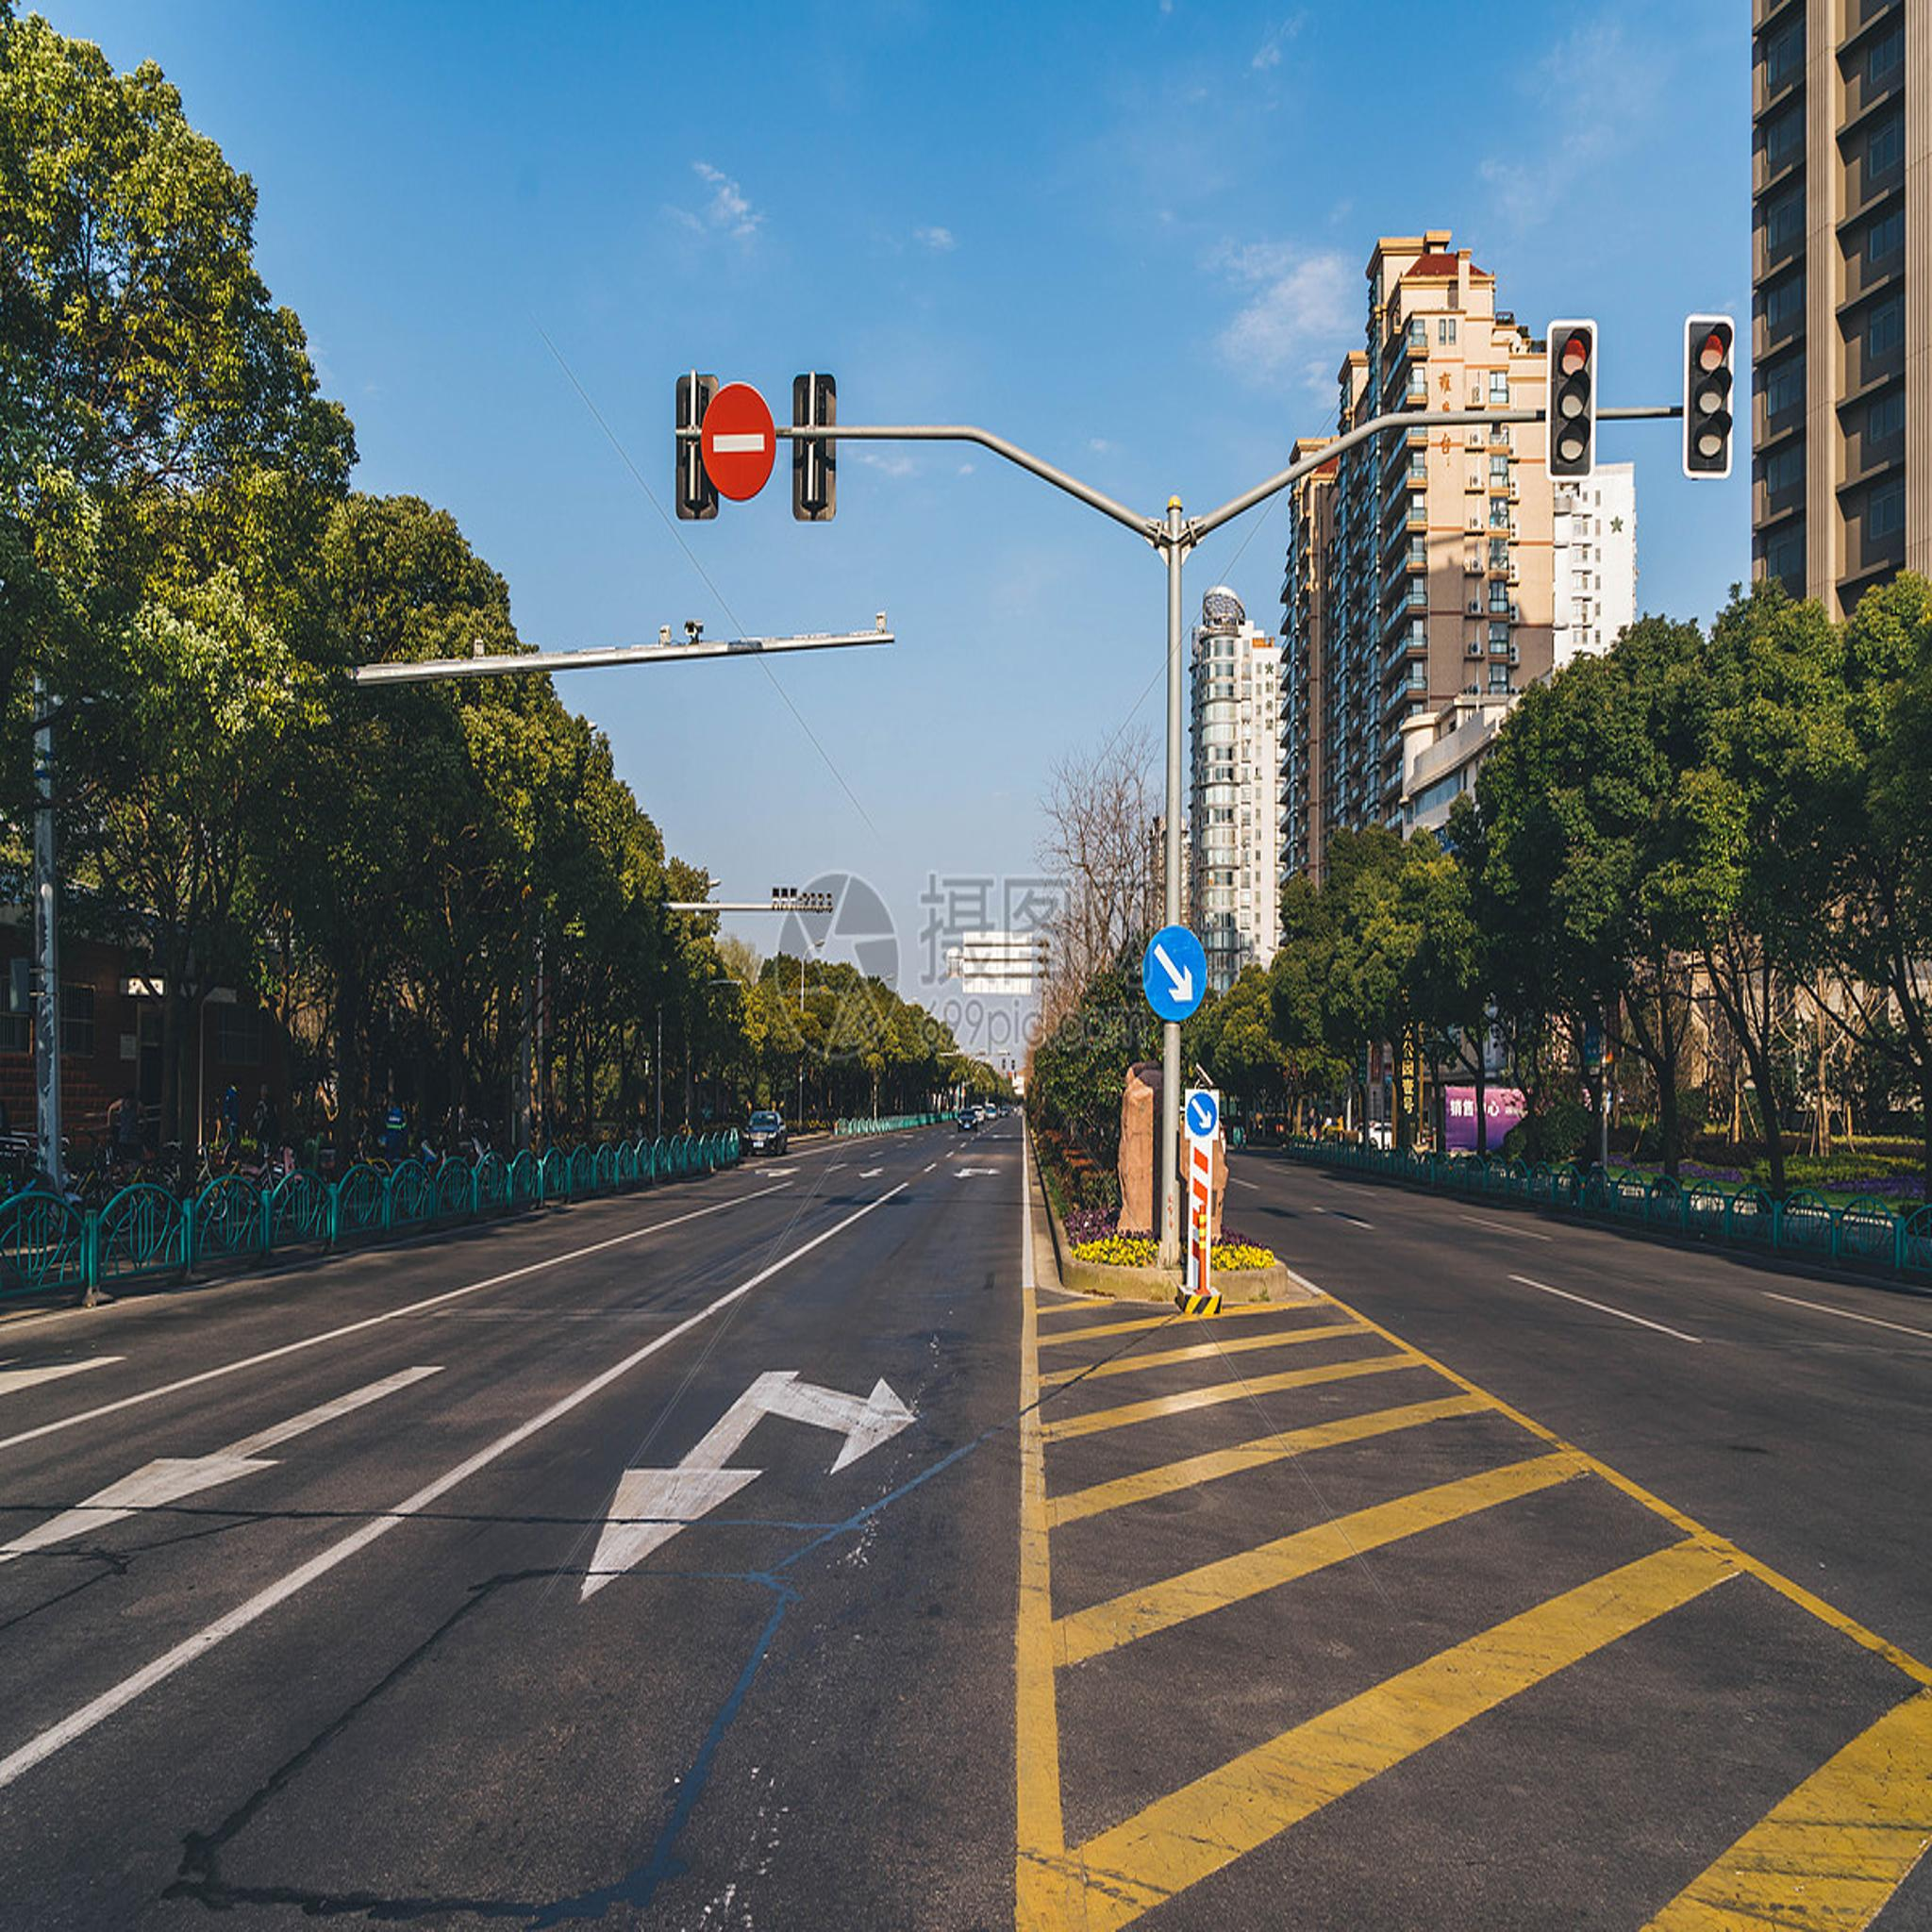i5: (1141, 925, 1207, 1021), (1185, 1092, 1217, 1136)
pne: (701, 382, 777, 502)
